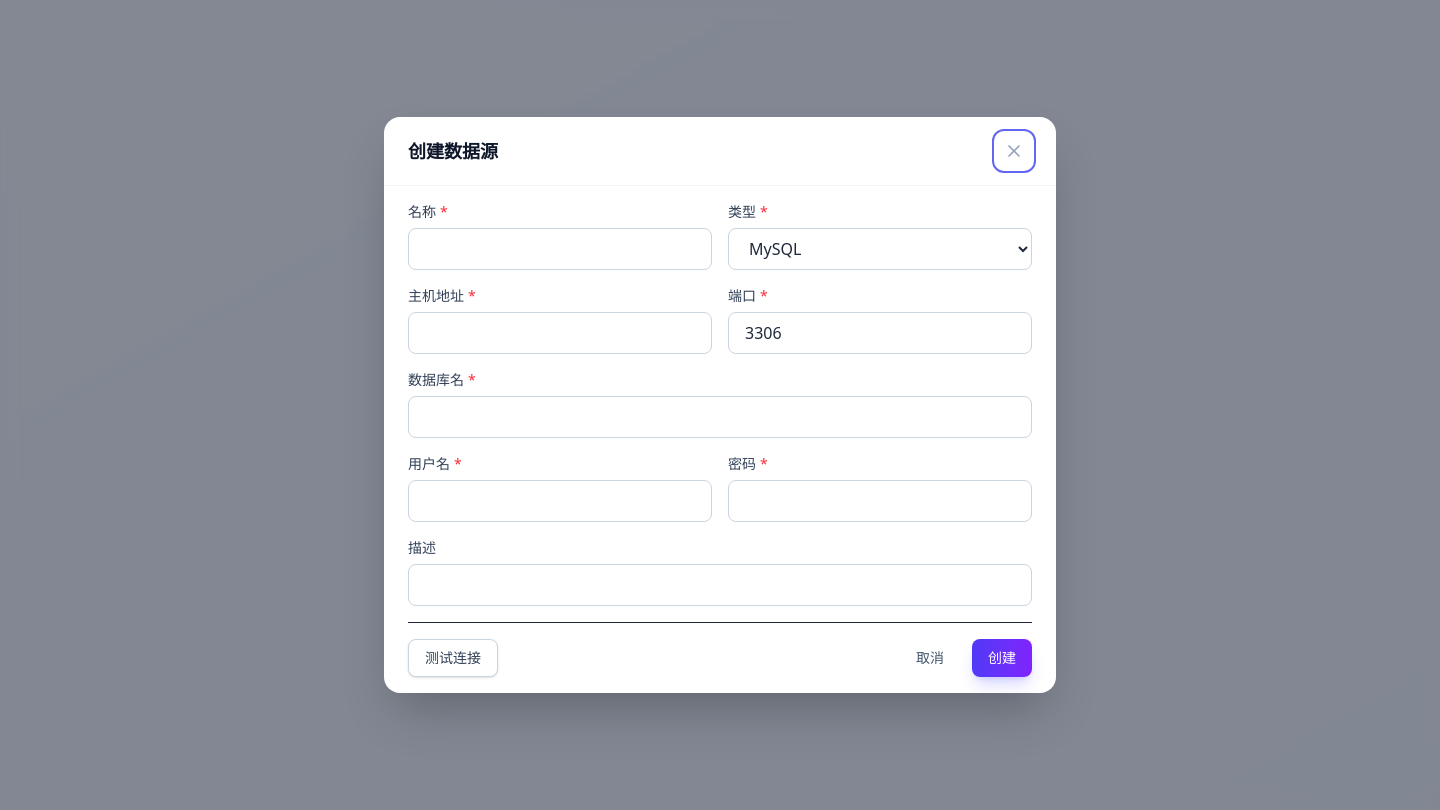
Test: SourceForm › create mode requires password
Click the button "创建" at [1002, 658], box [972,639,1032,677]
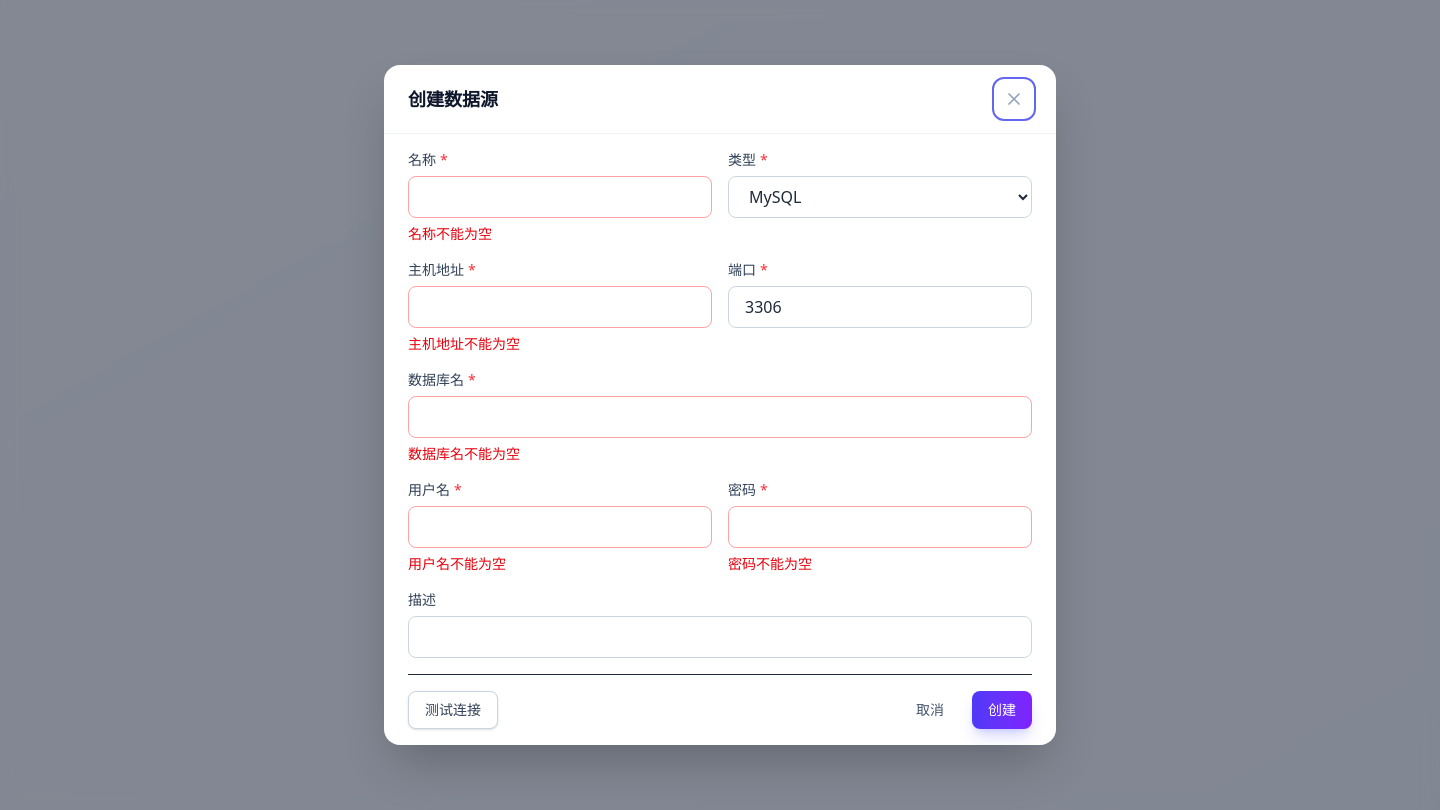
expect the text "密码不能为空" is shown: met, box [728,554,812,573]
